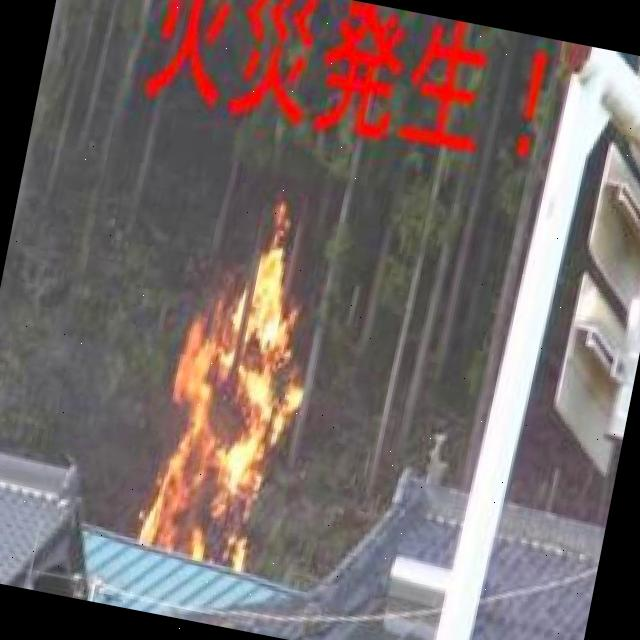fire: (134, 188, 340, 581)
